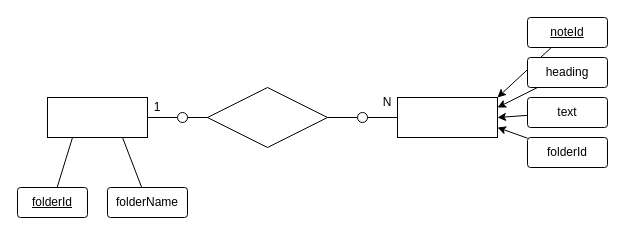
Some shapes in this 625 by 235 pixel diagram are drawn without their labels. Each missing label, with the centre of its shape:
Contains: pixel 267 117
Folder: pixel 97 117
Note: pixel 447 117
